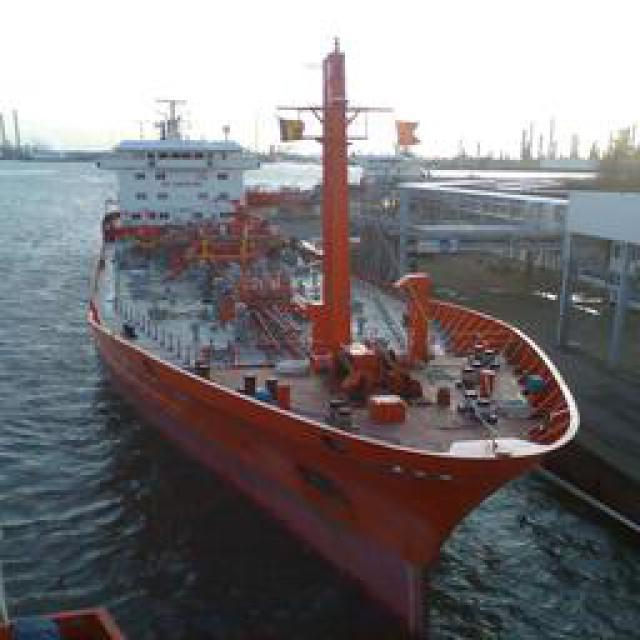Ship: (91, 154, 571, 624)
